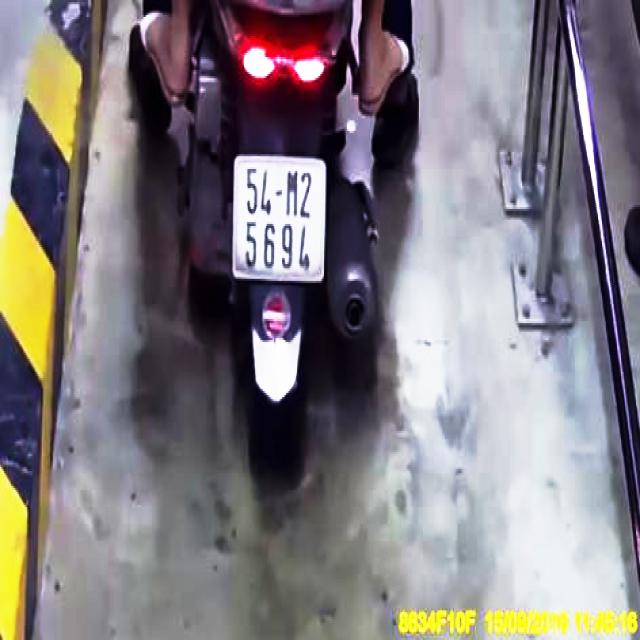license_plate: (235, 158, 327, 281)
